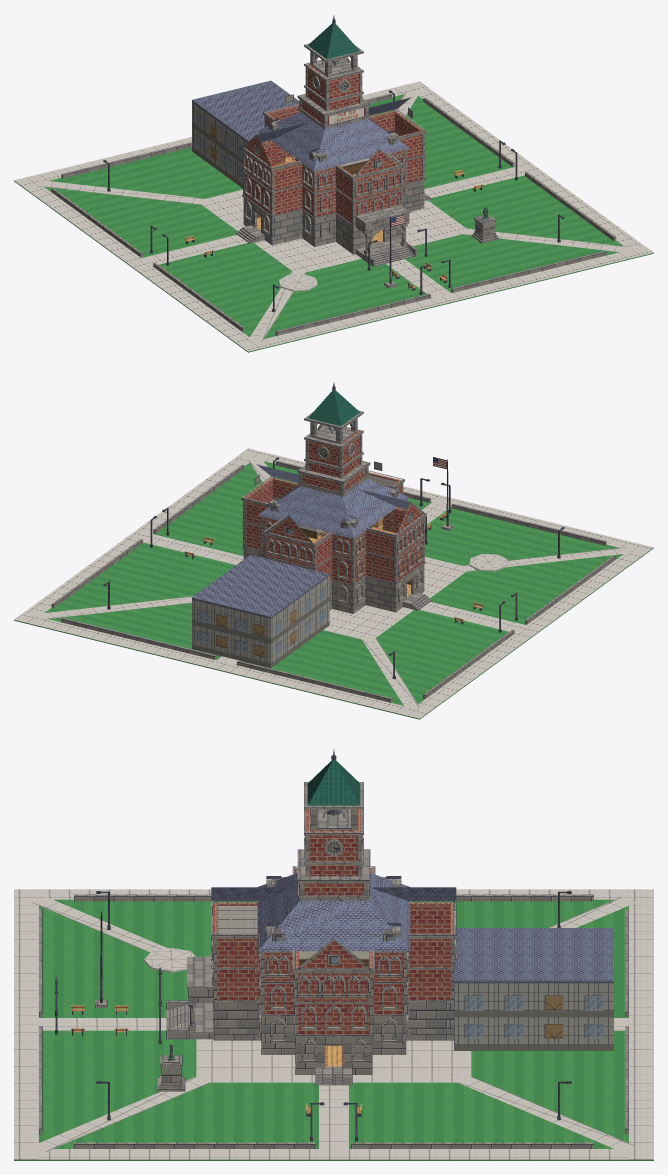
The model's file is courthouse-1988.glb.
3 renders of one model, top to bottom at view 1: azimuth 30°, elevation 25°; view 2: azimuth 150°, elevation 25°; view 3: azimuth 270°, elevation 25°, orthographic. The views are drawn at different scales.
Visible parts, largest first — view 1: lot_ground, structure, lot_extras, memorial, bandstand; view 2: lot_ground, structure, lot_extras, bandstand; view 3: lot_ground, structure, lot_extras, memorial, bandstand.
Boxes of the visible parts, bbox=[...] form: lot_ground: bbox=[14, 81, 653, 352]; structure: bbox=[236, 15, 431, 266]; lot_extras: bbox=[192, 80, 299, 188]; memorial: bbox=[471, 207, 498, 243]; bandstand: bbox=[279, 274, 317, 291]; lot_ground: bbox=[14, 448, 653, 719]; structure: bbox=[241, 382, 431, 613]; lot_extras: bbox=[192, 554, 329, 668]; bandstand: bbox=[469, 554, 507, 571]; lot_ground: bbox=[14, 889, 653, 1160]; structure: bbox=[166, 749, 456, 1085]; lot_extras: bbox=[454, 928, 613, 1050]; memorial: bbox=[157, 1044, 185, 1091]; bandstand: bbox=[144, 948, 195, 972].
Size of what is drawn, in the model's own units: 79.46 by 38.02 by 79.46.
Materials: 16 (16 with a texture image).
